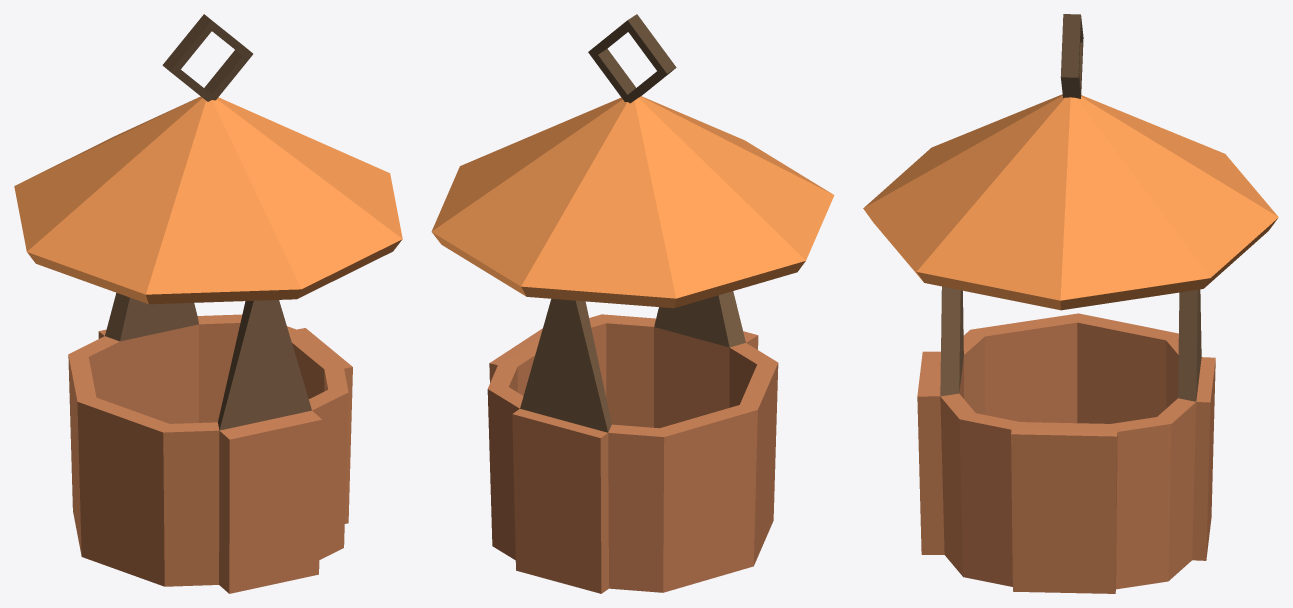
Rendered from FerrisWheelCart4.gltf.
3 views of the same model, side by side, from view 1: azimuth 30°, elevation 25°; view 2: azimuth 150°, elevation 25°; view 3: azimuth 270°, elevation 25° (orthographic).
Parts seen in each view (by area): view 1: ferriswheel.001; view 2: ferriswheel.001; view 3: ferriswheel.001.
Part boxes in pixels (box(x1,y1,x2,y2)): ferriswheel.001: box(14, 14, 402, 593); ferriswheel.001: box(431, 14, 834, 593); ferriswheel.001: box(863, 14, 1278, 593).
Size of the model in its own units: 1.71 by 2.37 by 1.71.
1 material, 1 textured.
